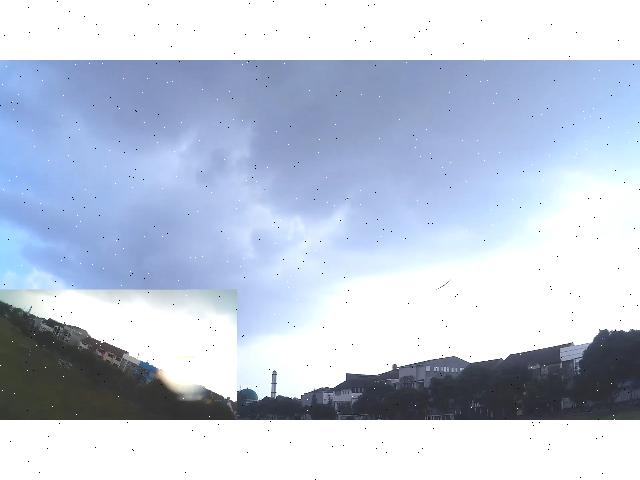Anti-Drone: (436, 280, 450, 290)
